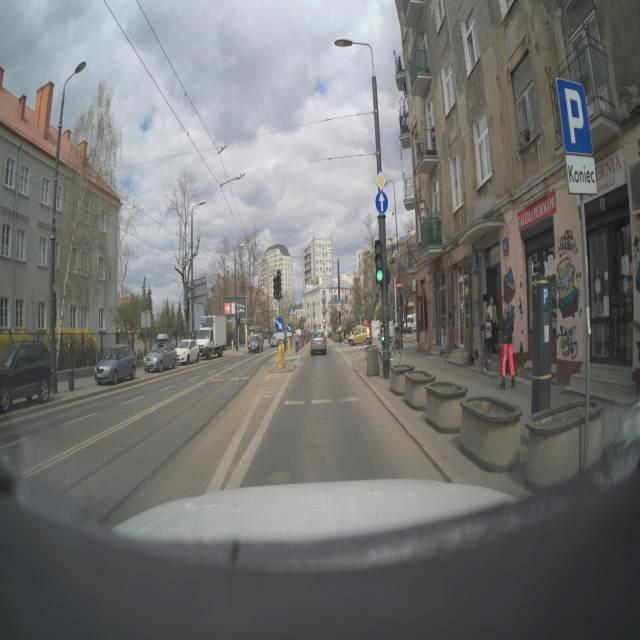Green: (372, 238, 391, 286)
